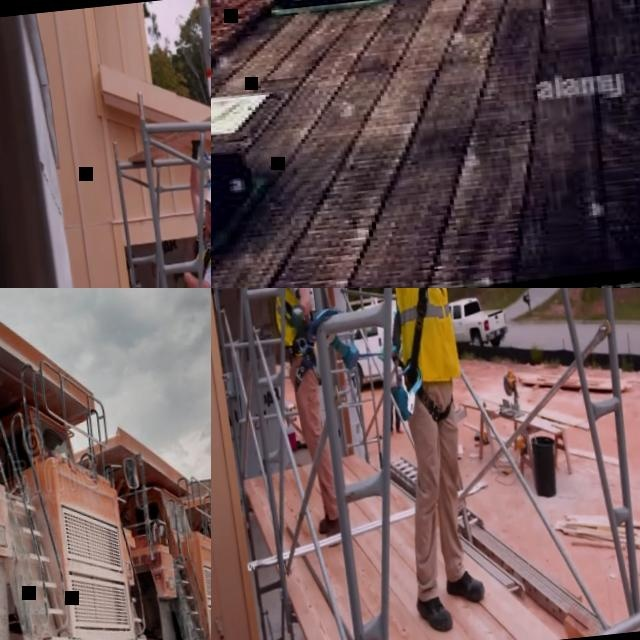Hardhat: (201, 183, 211, 213)
NO-Mask: (203, 213, 211, 231)
Person: (355, 288, 488, 634), (258, 288, 344, 551), (158, 136, 211, 288)
Safety Cone: (211, 0, 279, 282)
Safety Vest: (386, 288, 461, 386), (267, 288, 316, 356), (184, 232, 211, 288)
machinery: (0, 288, 165, 640), (64, 407, 211, 640)
vehicle: (346, 297, 406, 388), (447, 293, 508, 351)
